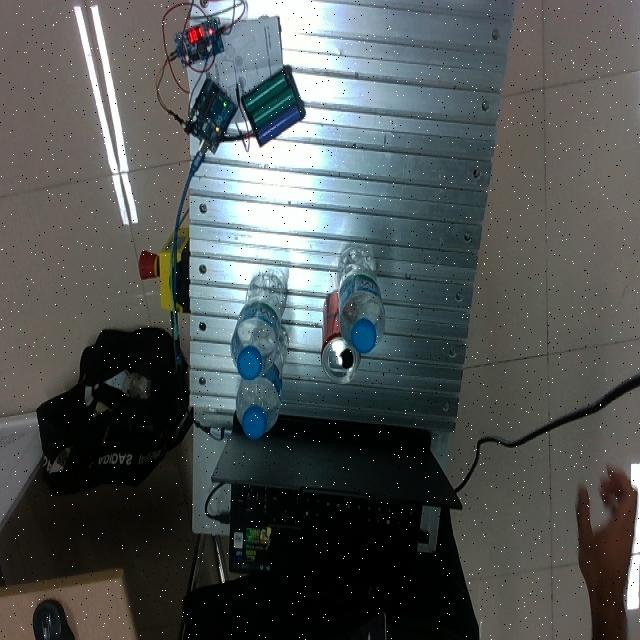coca: (320, 289, 362, 384)
lavie: (235, 324, 286, 439), (233, 271, 287, 376), (337, 247, 386, 353)
